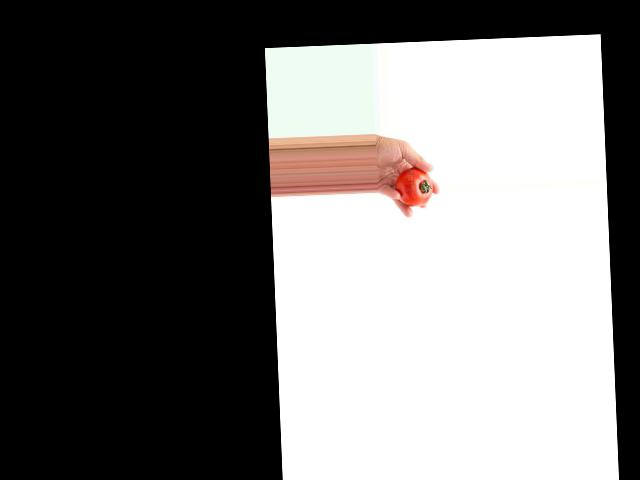tomato: (394, 167, 433, 207)
